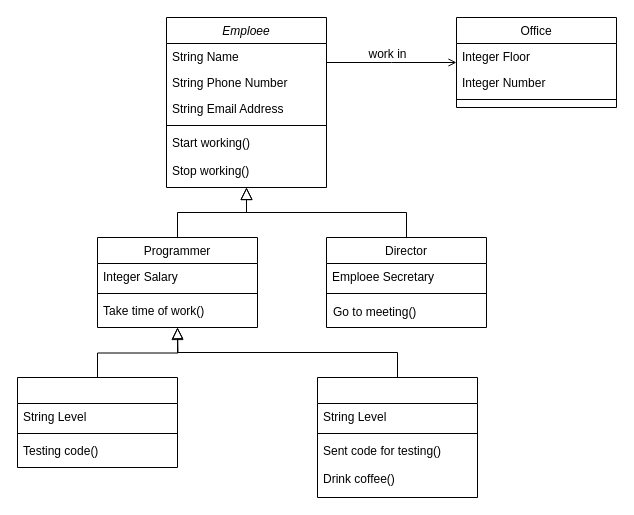
The diagram is 634 pixels wide and 515 high, and some of its shapes have lost their labels. The box of each missing label's shape, as (x1, y1, x2, y2) in pixels:
Developer: (316, 376, 478, 498)
Tester: (16, 376, 178, 468)
